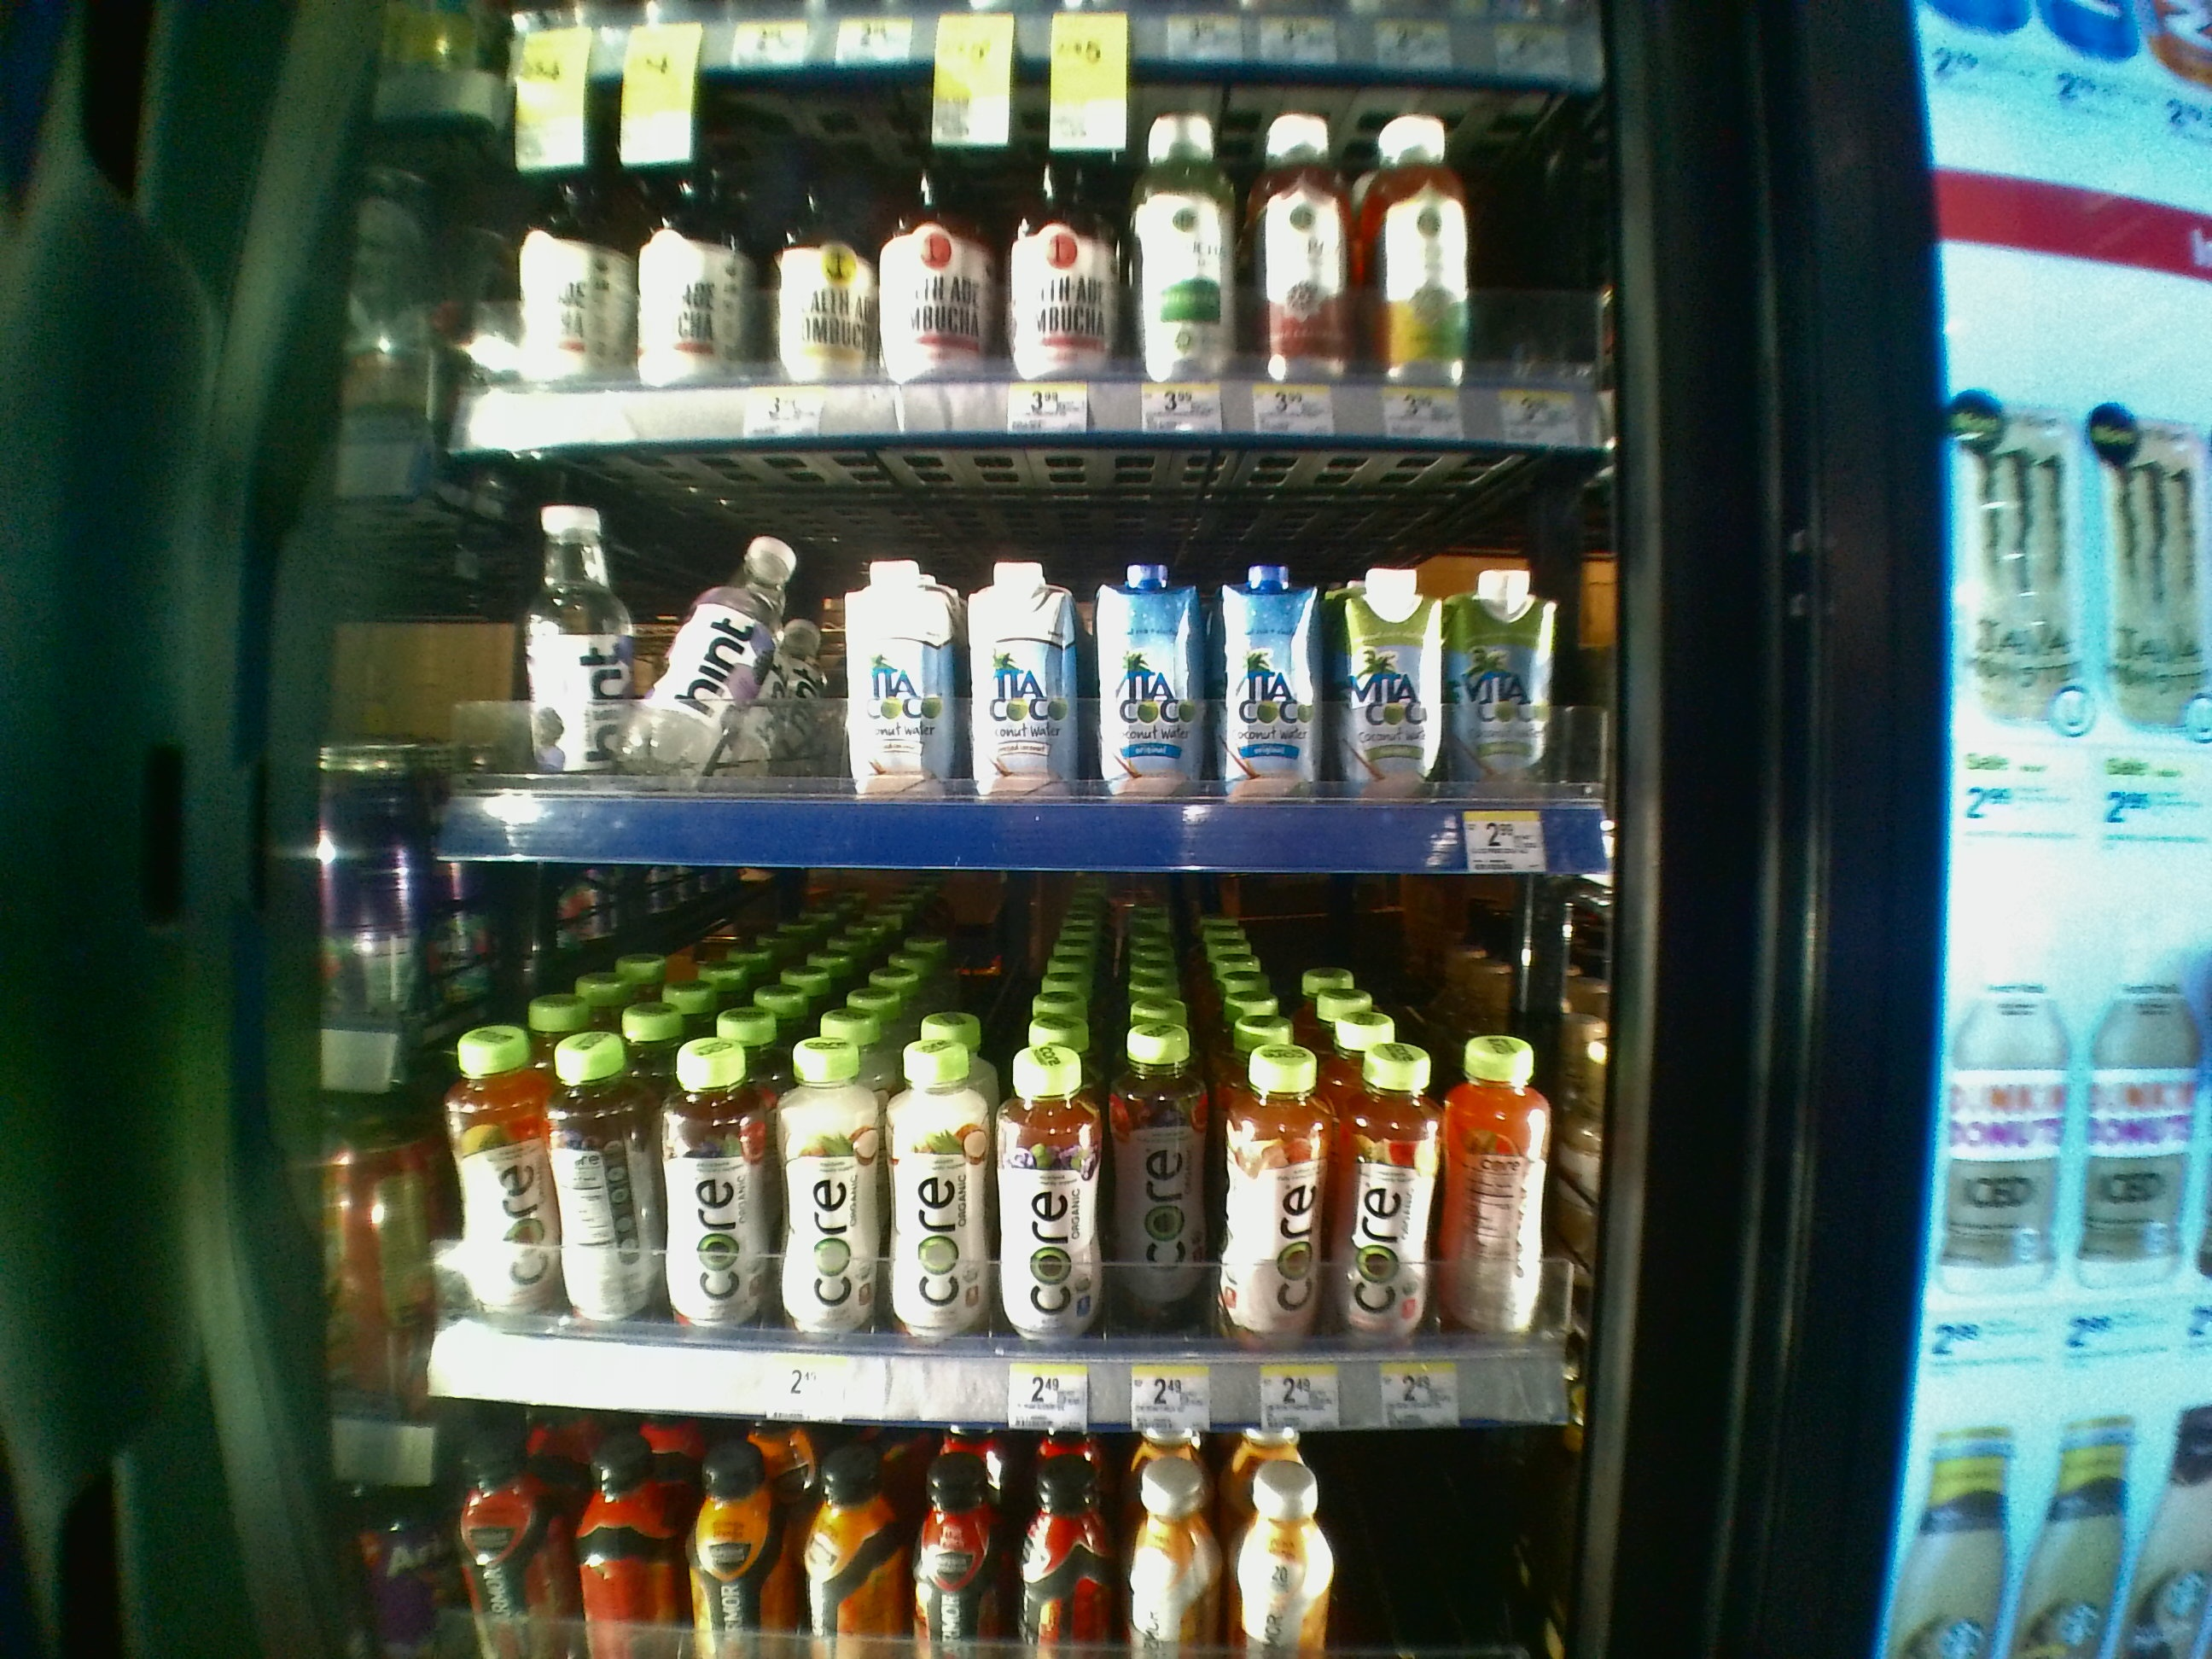shelf: (298, 868, 1634, 1408), (310, 450, 1629, 871)
